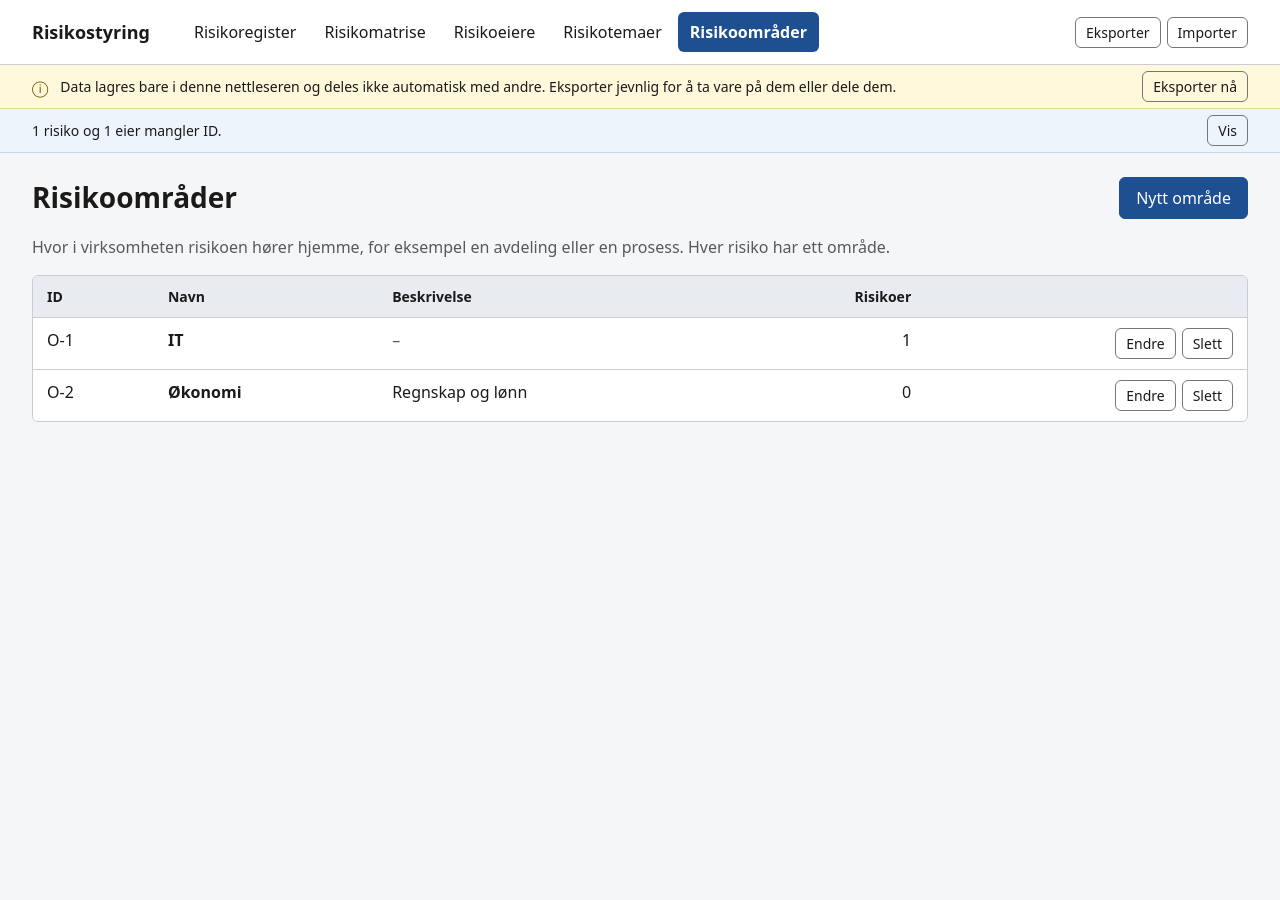
Risikoområder › sletter element som ikke er i bruk
This screenshot has width=1280, height=900.
Expected: the heading "Risikoområder" is shown, [32, 181, 237, 215]
Click the button with aria-label "Slett Økonomi" at (1207, 396), box [1182, 380, 1233, 411]
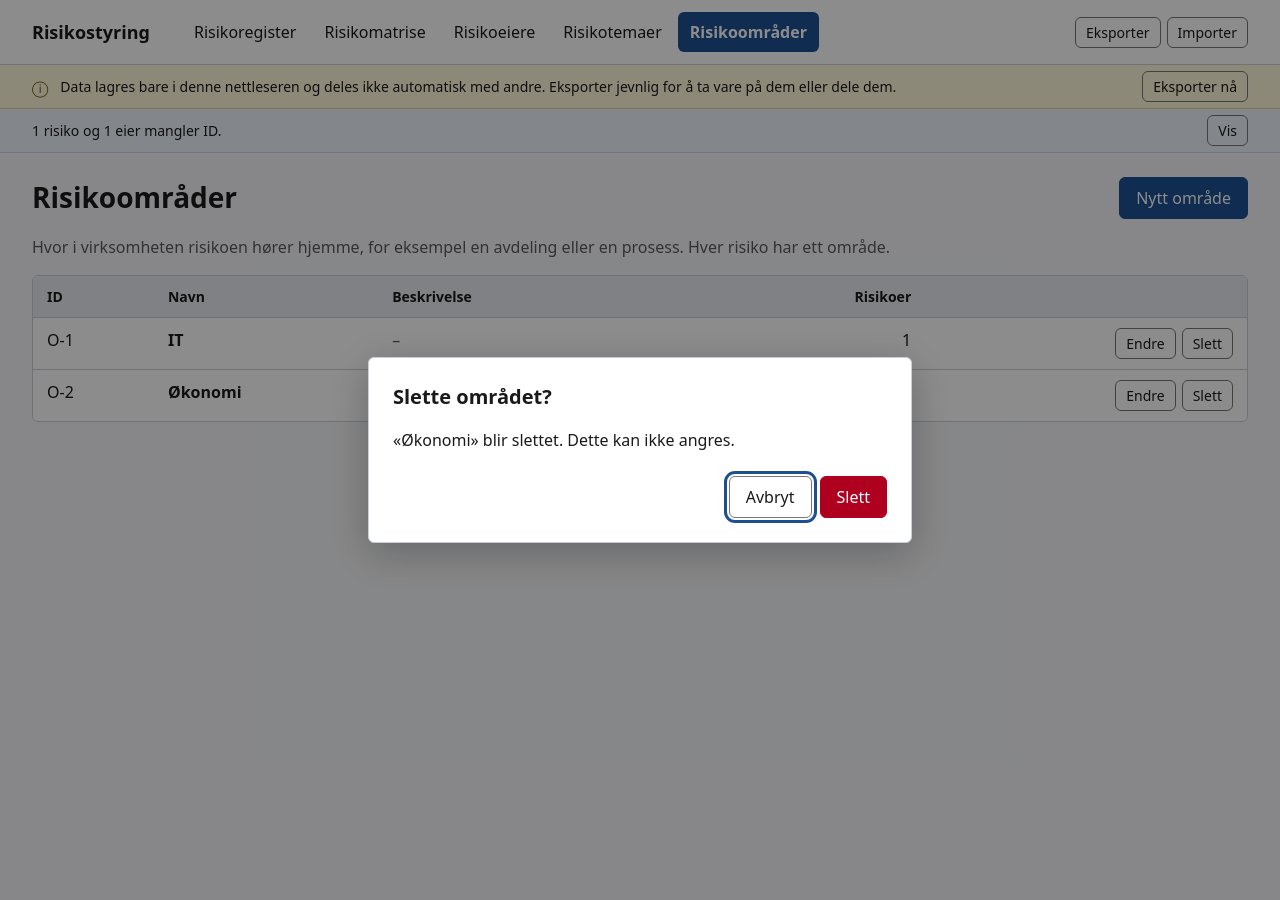
Click the button "Slett" at (853, 497), box [820, 476, 887, 518]
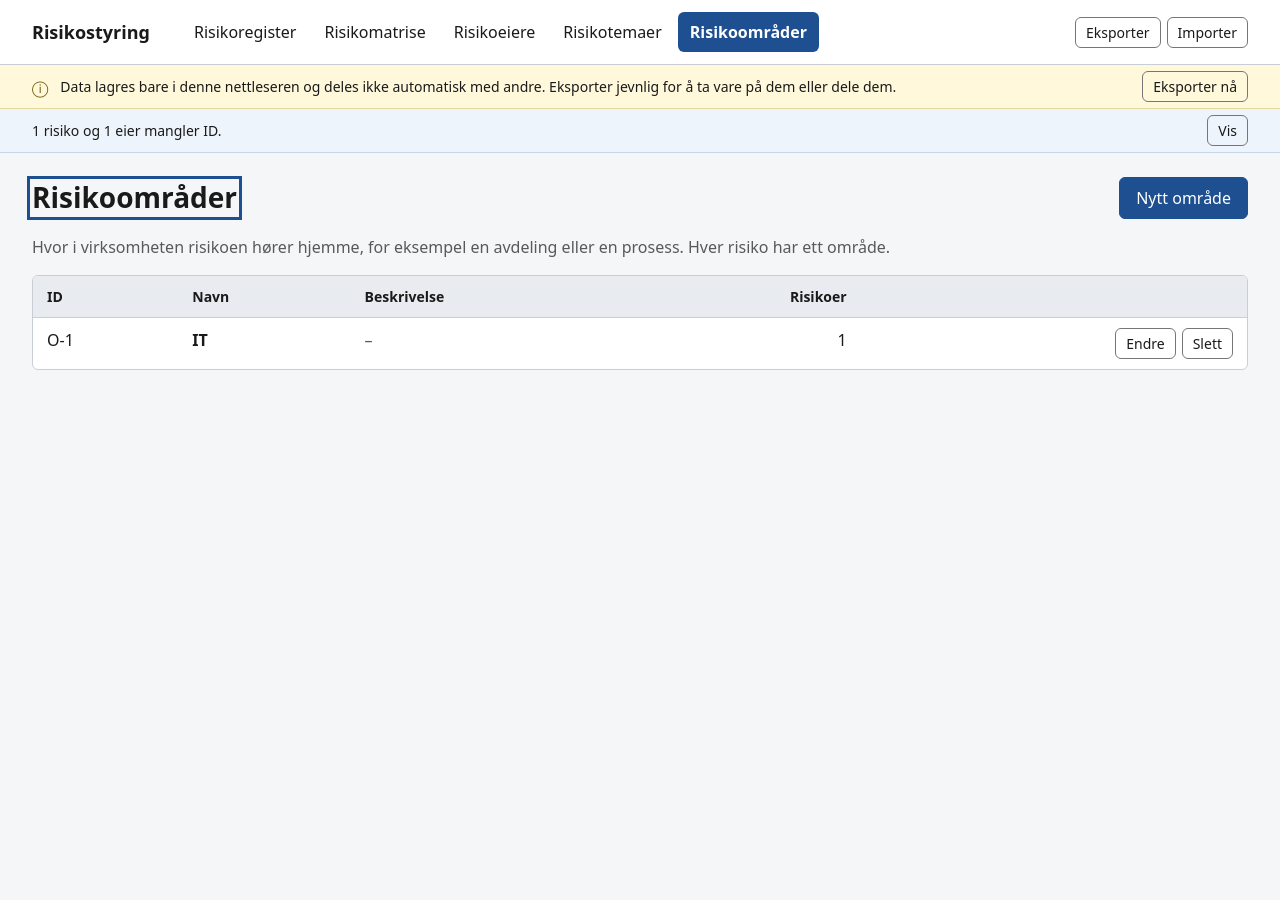
Result: the column heading "Økonomi" is gone
